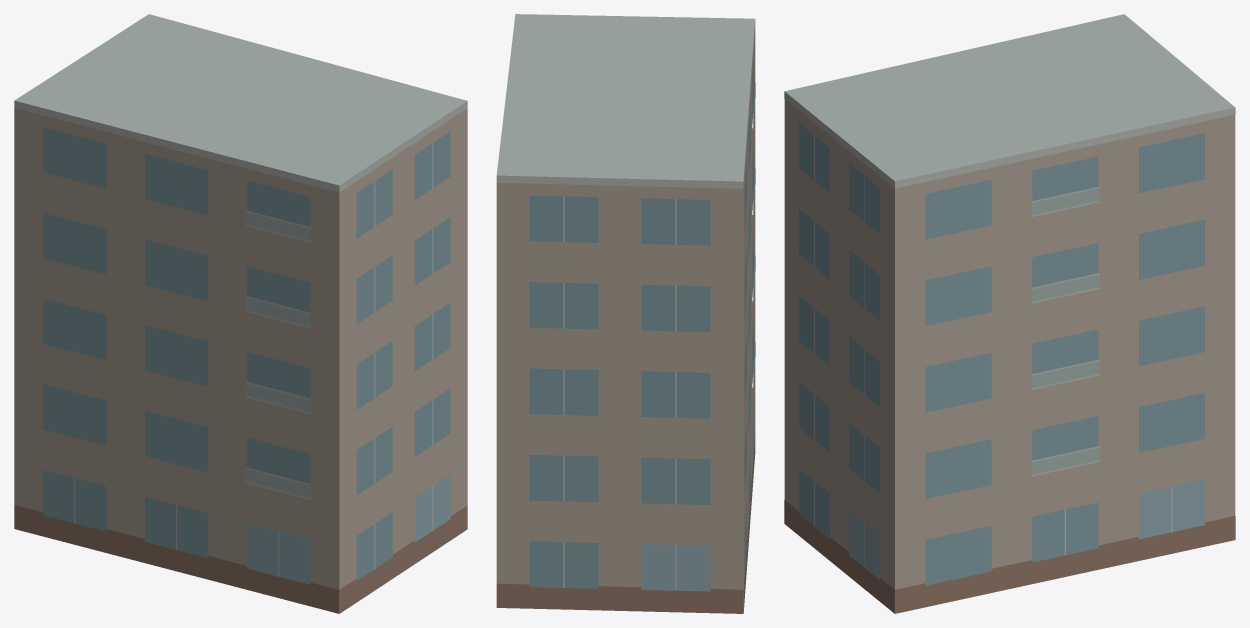
Rendered from survey-upis-32863899.glb.
3 views of the same model, side by side, from view 1: azimuth 30°, elevation 25°; view 2: azimuth 150°, elevation 25°; view 3: azimuth 270°, elevation 25° (orthographic).
Visible parts, largest first — view 1: survey-upis-32863899.tmp; view 2: survey-upis-32863899.tmp; view 3: survey-upis-32863899.tmp.
Part boxes in pixels (x1,y1,x2,y2): survey-upis-32863899.tmp: (14, 14, 467, 613); survey-upis-32863899.tmp: (496, 14, 755, 613); survey-upis-32863899.tmp: (784, 14, 1235, 613).
Bounding box in the file's own units: 12.09 × 14.55 × 13.76.
